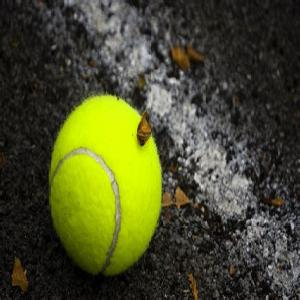Tennis: (46, 96, 162, 272)
